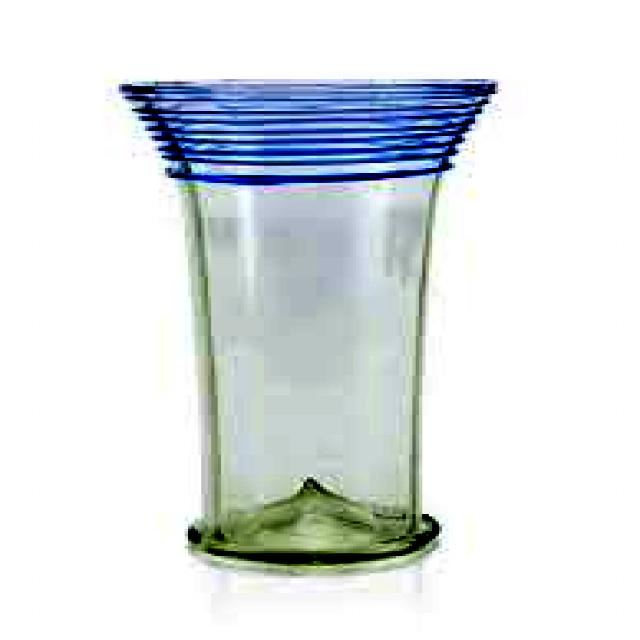Glass: (104, 75, 505, 580)
